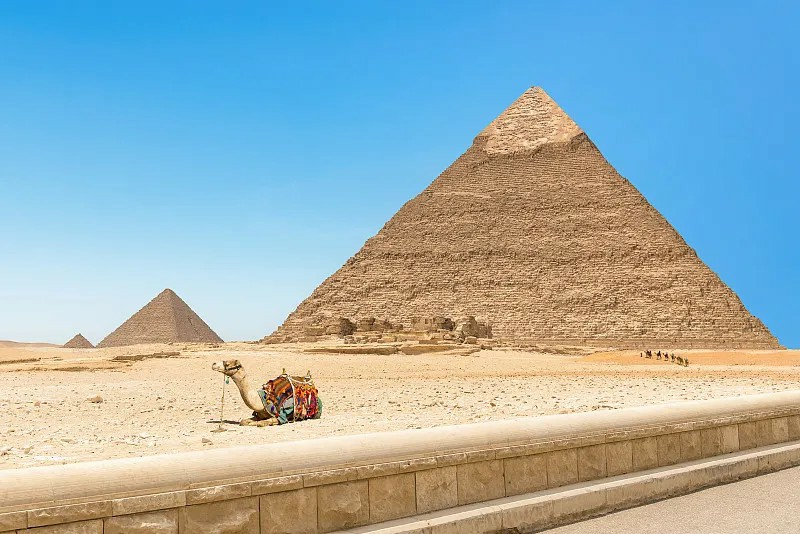Pyramid: (265, 85, 787, 351), (100, 287, 224, 343), (63, 333, 95, 347)
